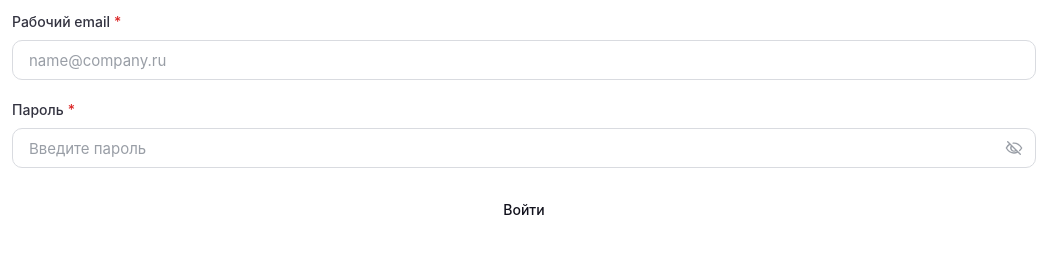
LoginForm — client-side validation › показывает inline-ошибки при невалидном email и коротком пароле
This screenshot has width=1048, height=280.
Type "not-an-email" into the field labelled "Рабочий email *".
click(524, 60); type("not-an-email")  # box top-left (12, 40), bottom-right (1036, 80)
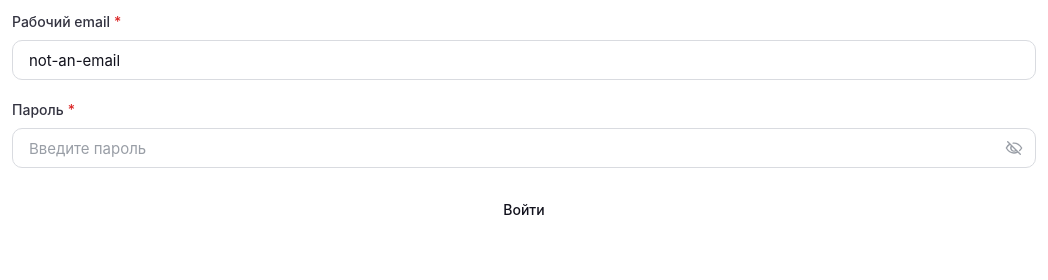
Type "123" into the password field labelled "Пароль *".
click(524, 148); type("123")  # box top-left (12, 128), bottom-right (1036, 168)
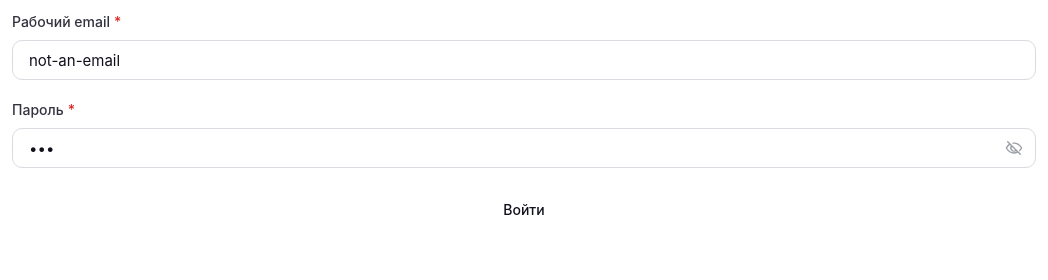
Submit the form labelled "Рабочий email * Пароль * Войти"
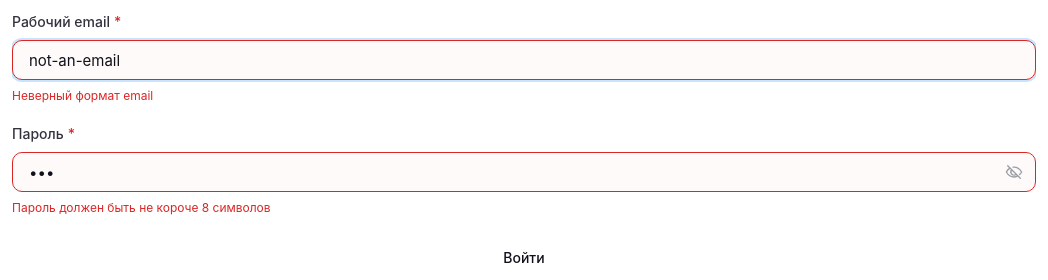
Now the text "Неверный формат email" is shown, box top-left (12, 88), bottom-right (153, 103)
Now the text "Пароль должен быть не короче 8 символов" is shown, box top-left (12, 200), bottom-right (271, 215)
